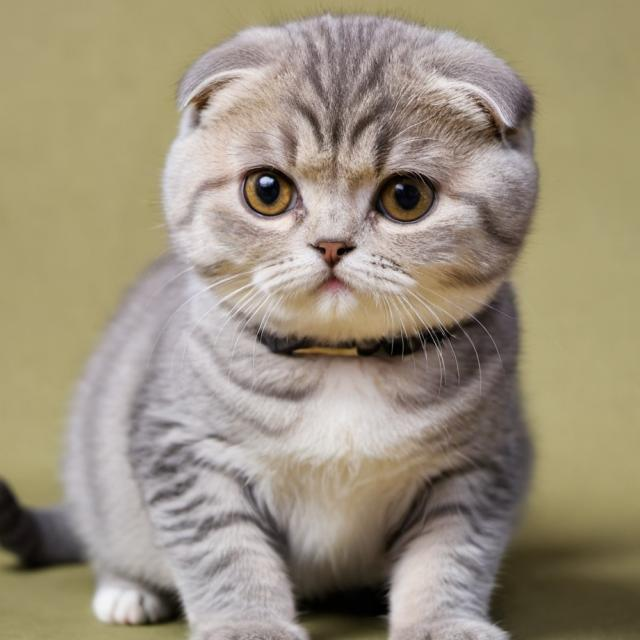Scottish Fold: (0, 6, 545, 640)
